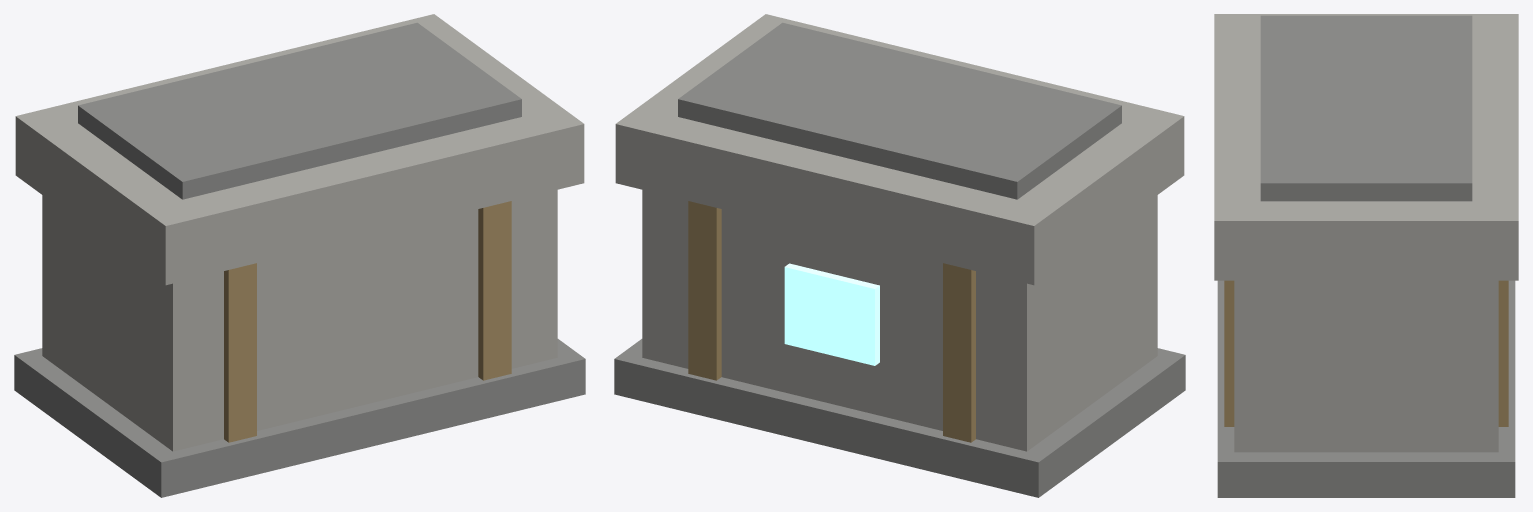
Rendered from crypt_coffer.glb.
The picture shows the model from 3 angles, left to right: view 1: azimuth 30°, elevation 25°; view 2: azimuth 150°, elevation 25°; view 3: azimuth 270°, elevation 25°; orthographic projection.
Visible parts, largest first — view 1: crypt_coffer; view 2: crypt_coffer; view 3: crypt_coffer.
Part boxes in pixels (left/top/right/bottom): crypt_coffer: left=14, top=14, right=585, bottom=497; crypt_coffer: left=614, top=14, right=1185, bottom=497; crypt_coffer: left=1214, top=14, right=1518, bottom=497.
Size of the model in its own units: 1.5 by 0.98 by 0.92.
